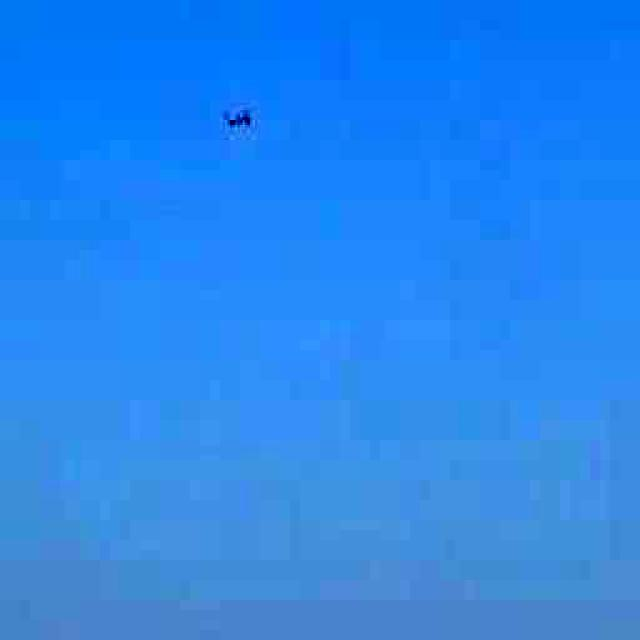bird: (192, 78, 272, 142)
